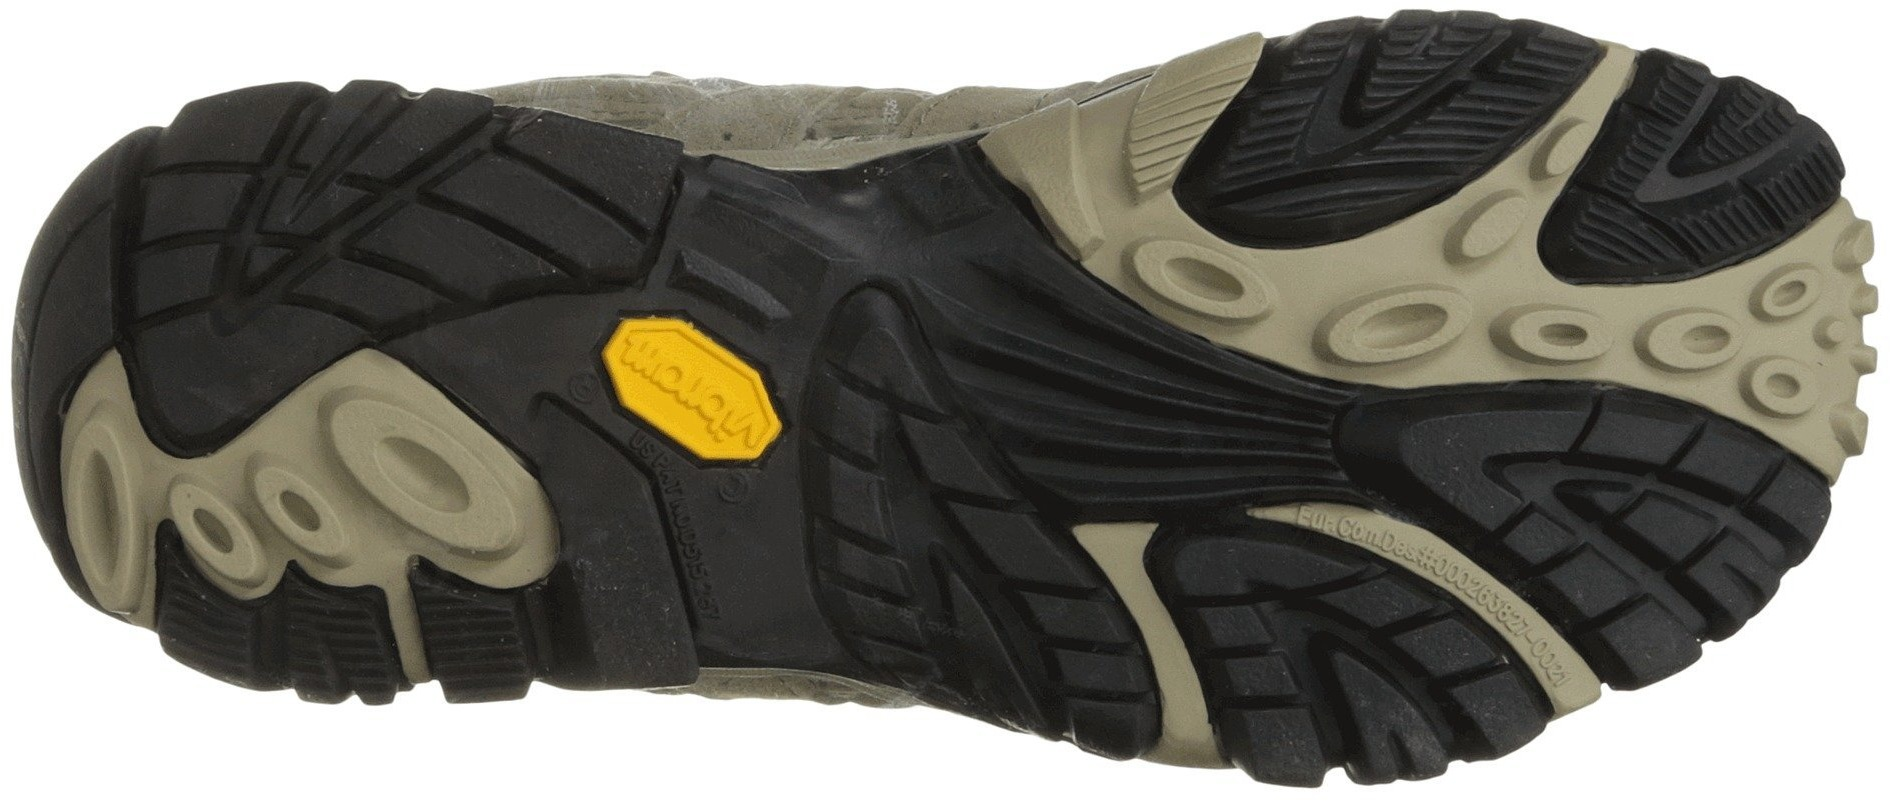circle: (1264, 253, 1484, 401), (297, 410, 469, 581), (1703, 288, 1859, 422)
quad: (1160, 582, 1444, 759), (421, 129, 651, 320), (209, 124, 413, 320), (1495, 489, 1716, 646), (808, 422, 986, 584)
text: (612, 319, 757, 469)
